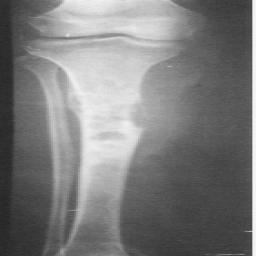cancer: (57, 52, 192, 217)
